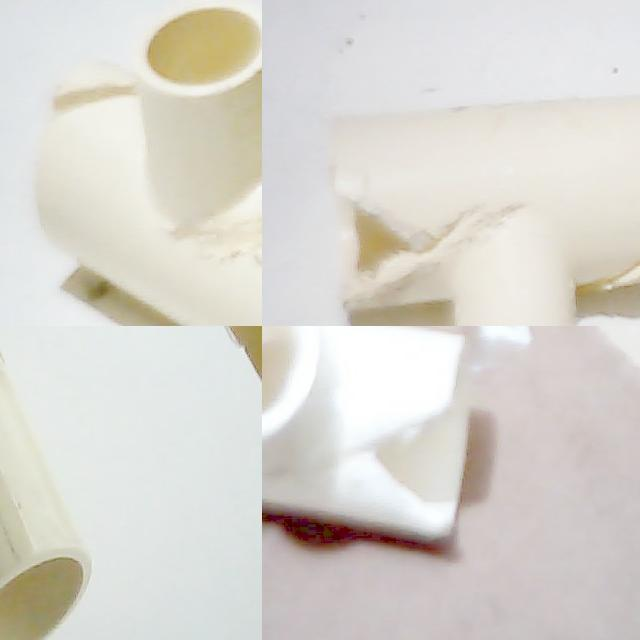Defective: (306, 407, 470, 547), (323, 169, 455, 311), (179, 204, 262, 326), (50, 55, 136, 131), (582, 229, 640, 311)
T Joint: (32, 0, 262, 326), (329, 95, 640, 326), (262, 326, 471, 558)
